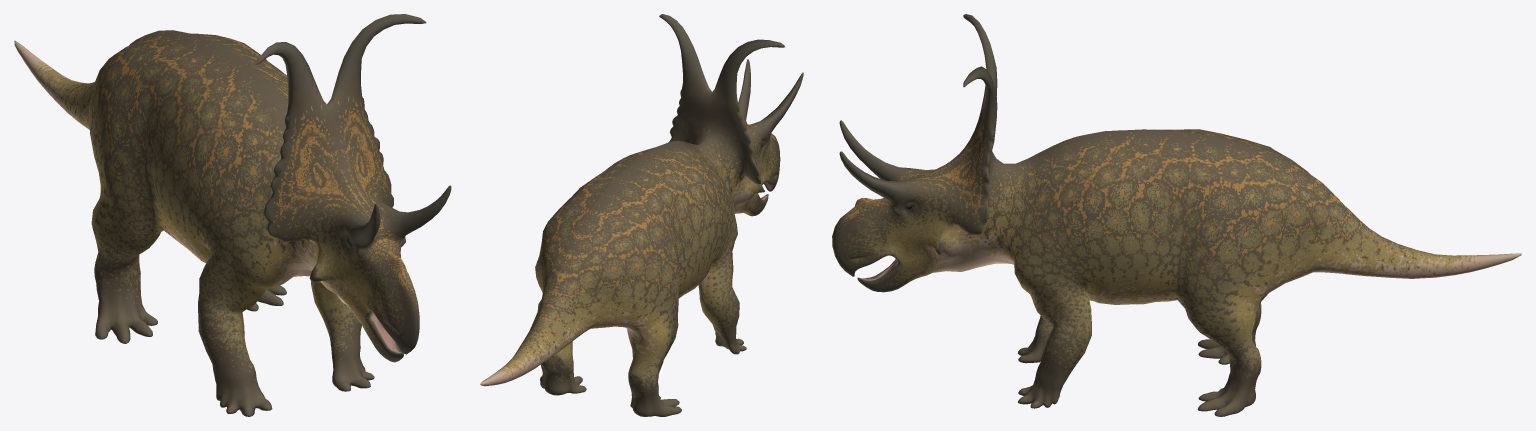
The model's file is Diabloceratops.glb.
3 views of the same model, side by side, from view 1: azimuth 30°, elevation 25°; view 2: azimuth 150°, elevation 25°; view 3: azimuth 270°, elevation 25° (orthographic). The views are drawn at different scales.
Visible parts, largest first — view 1: DW_Diabloceratops_Adulto_Mayor_mesh; view 2: DW_Diabloceratops_Adulto_Mayor_mesh; view 3: DW_Diabloceratops_Adulto_Mayor_mesh.
Part boxes in pixels (x1,y1,x2,y2): DW_Diabloceratops_Adulto_Mayor_mesh: [14, 14, 451, 416]; DW_Diabloceratops_Adulto_Mayor_mesh: [480, 14, 803, 416]; DW_Diabloceratops_Adulto_Mayor_mesh: [832, 14, 1521, 416].
Bounding box in the file's own units: 0.2694 × 0.5365 × 1.
Materials: 2 (2 with a texture image).
